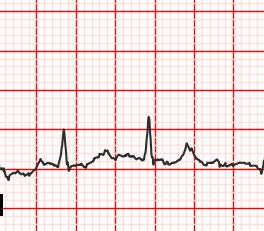Poor R Progression: (53, 125, 75, 173)
